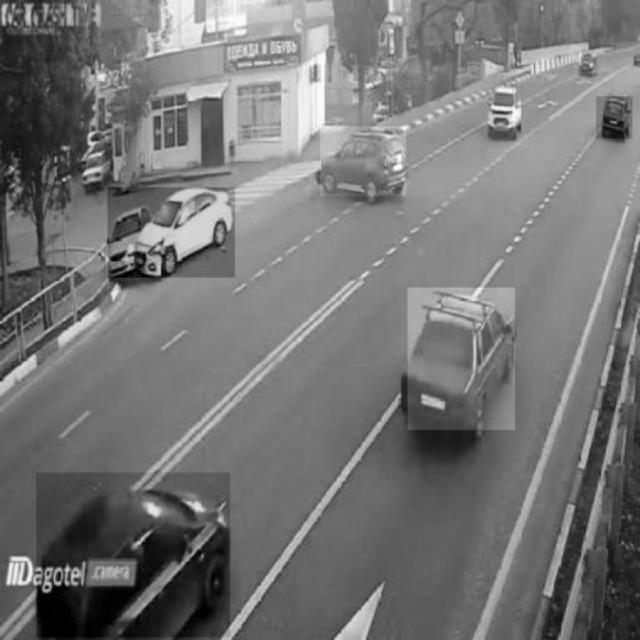accident: (108, 188, 236, 278)
vehicle: (36, 472, 230, 637), (408, 288, 516, 430), (321, 127, 407, 197), (489, 84, 526, 139), (597, 97, 633, 139)
